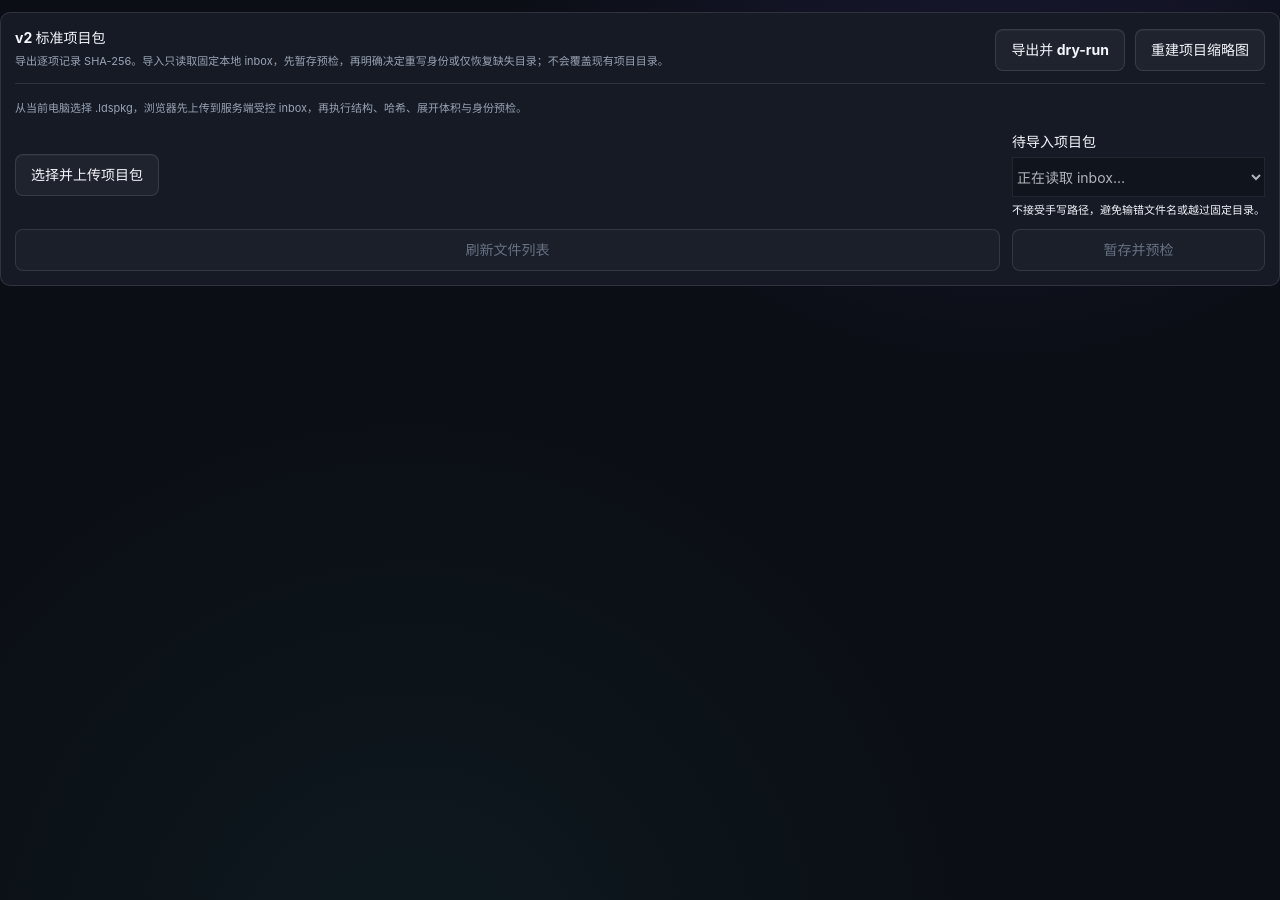
Test: ProjectPackageAction › shows the exact failed thumbnail version and retry guidance
Click the button "重建项目缩略图" at {"x": 1200, "y": 50}, box [1135,29,1265,71]
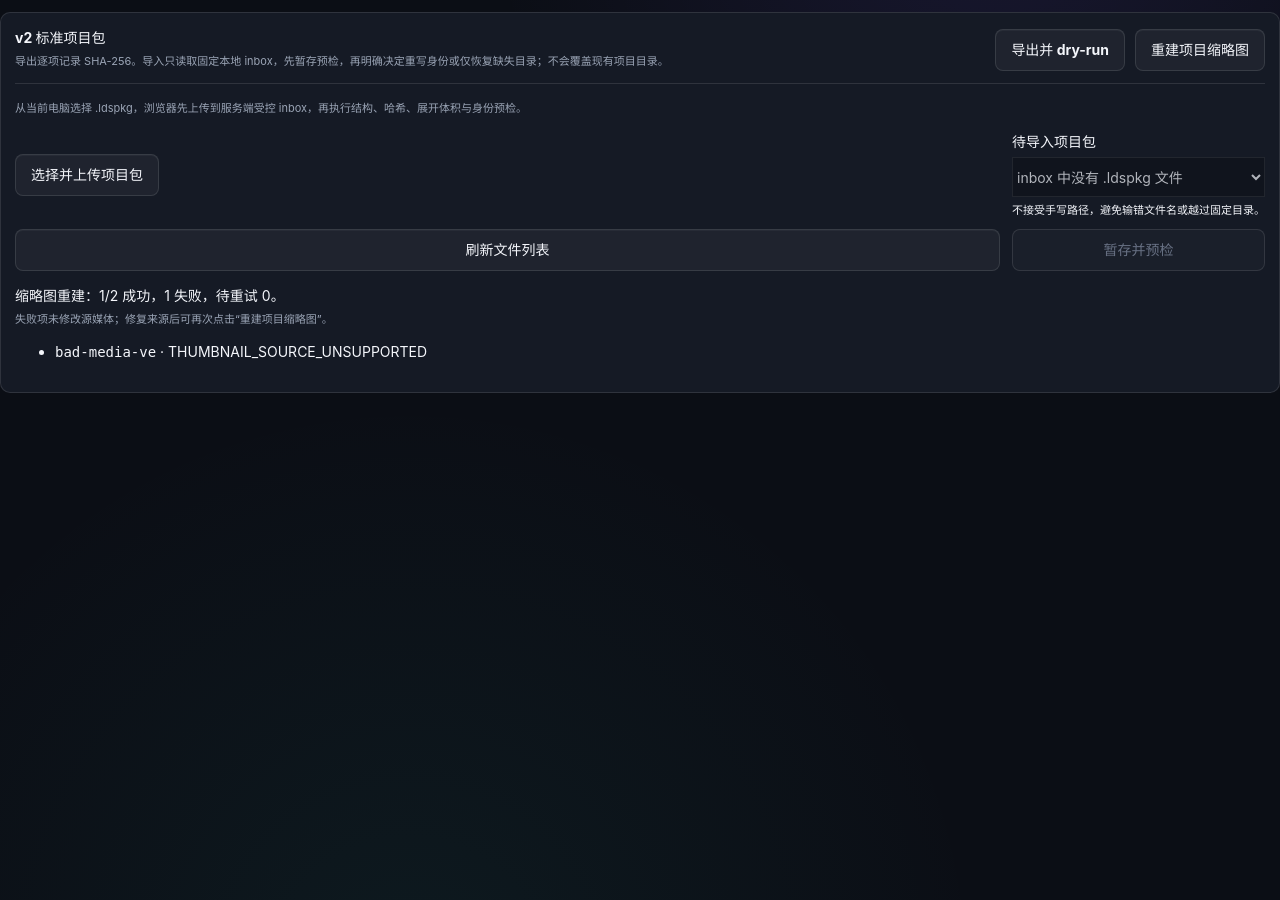
expect the text "缩略图重建：1/2 成功，1 失败，待重试 0。" is shown: met, box [15,287,285,304]
expect the text "bad-media-ve" is shown: met, box [55,344,156,360]
expect the list item "bad-media-ve · THUMBNAIL_SOURCE_UNSUPPORTED" is shown: met, box [55,344,427,360]
